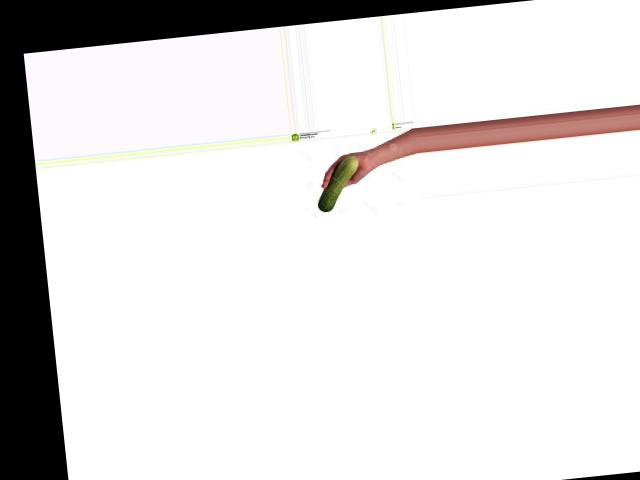cucumber: (314, 155, 363, 211)
